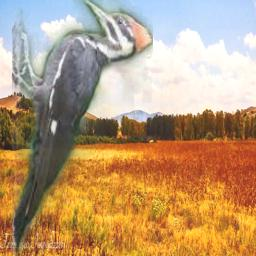Woodpecker: (12, 0, 153, 256)
